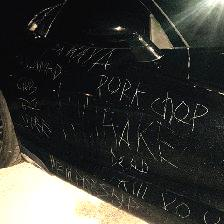door_scratch: (8, 37, 216, 222)
